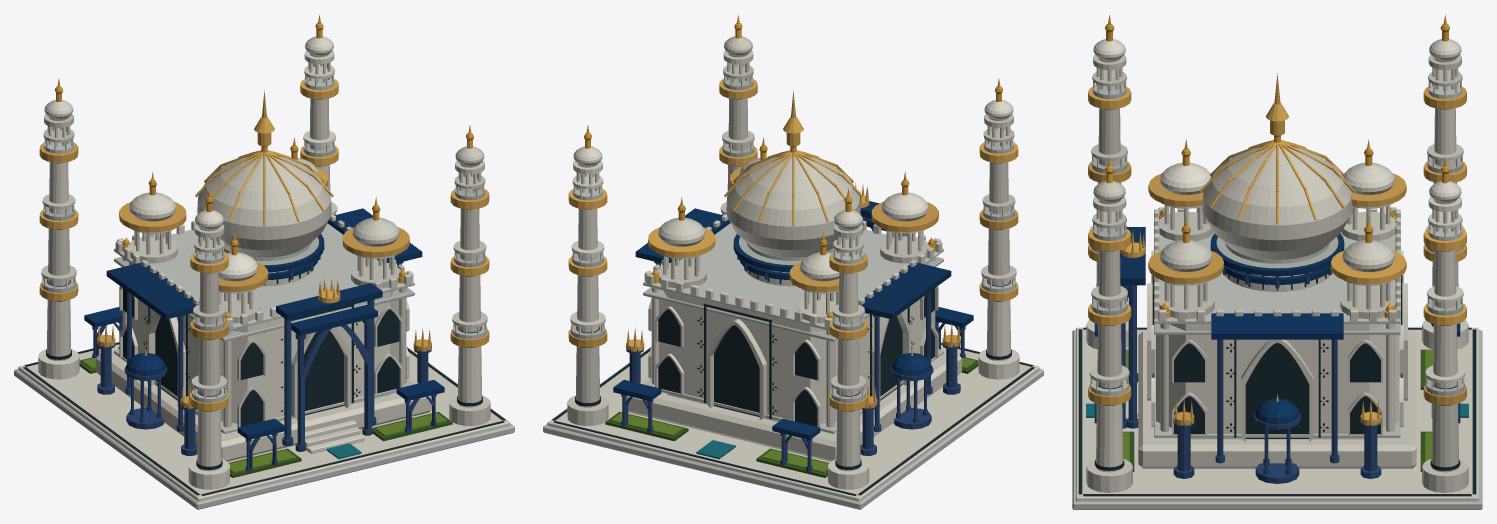
3 views of the same model, side by side, from view 1: azimuth 30°, elevation 25°; view 2: azimuth 150°, elevation 25°; view 3: azimuth 270°, elevation 25° (orthographic). The views are drawn at different scales.
Parts seen in each view (by area): view 1: fort_L12_0, fort_L12_1; view 2: fort_L12_0, fort_L12_1; view 3: fort_L12_0, fort_L12_1.
Part boxes in pixels (left/top/right/bottom): fort_L12_0: left=14, top=23, right=514, bottom=509; fort_L12_1: left=39, top=14, right=489, bottom=411; fort_L12_0: left=543, top=23, right=1043, bottom=509; fort_L12_1: left=568, top=14, right=1018, bottom=411; fort_L12_0: left=1072, top=24, right=1482, bottom=509; fort_L12_1: left=1088, top=15, right=1466, bottom=428.
Size of the model in its own units: 7.6 by 7.18 by 7.6.
